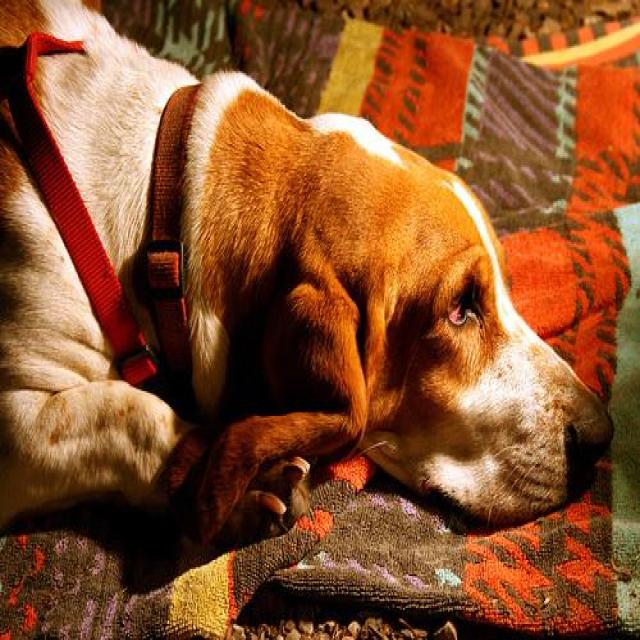basset: (0, 1, 614, 551)
